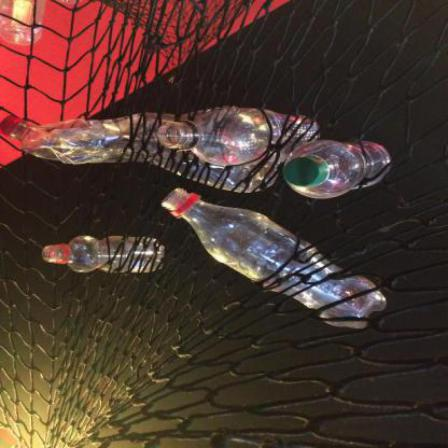Bottle: (163, 189, 388, 329), (6, 106, 282, 194), (158, 109, 322, 167), (285, 141, 393, 200), (43, 237, 166, 274), (1, 2, 48, 48)
Bottle cap: (285, 157, 327, 189)
